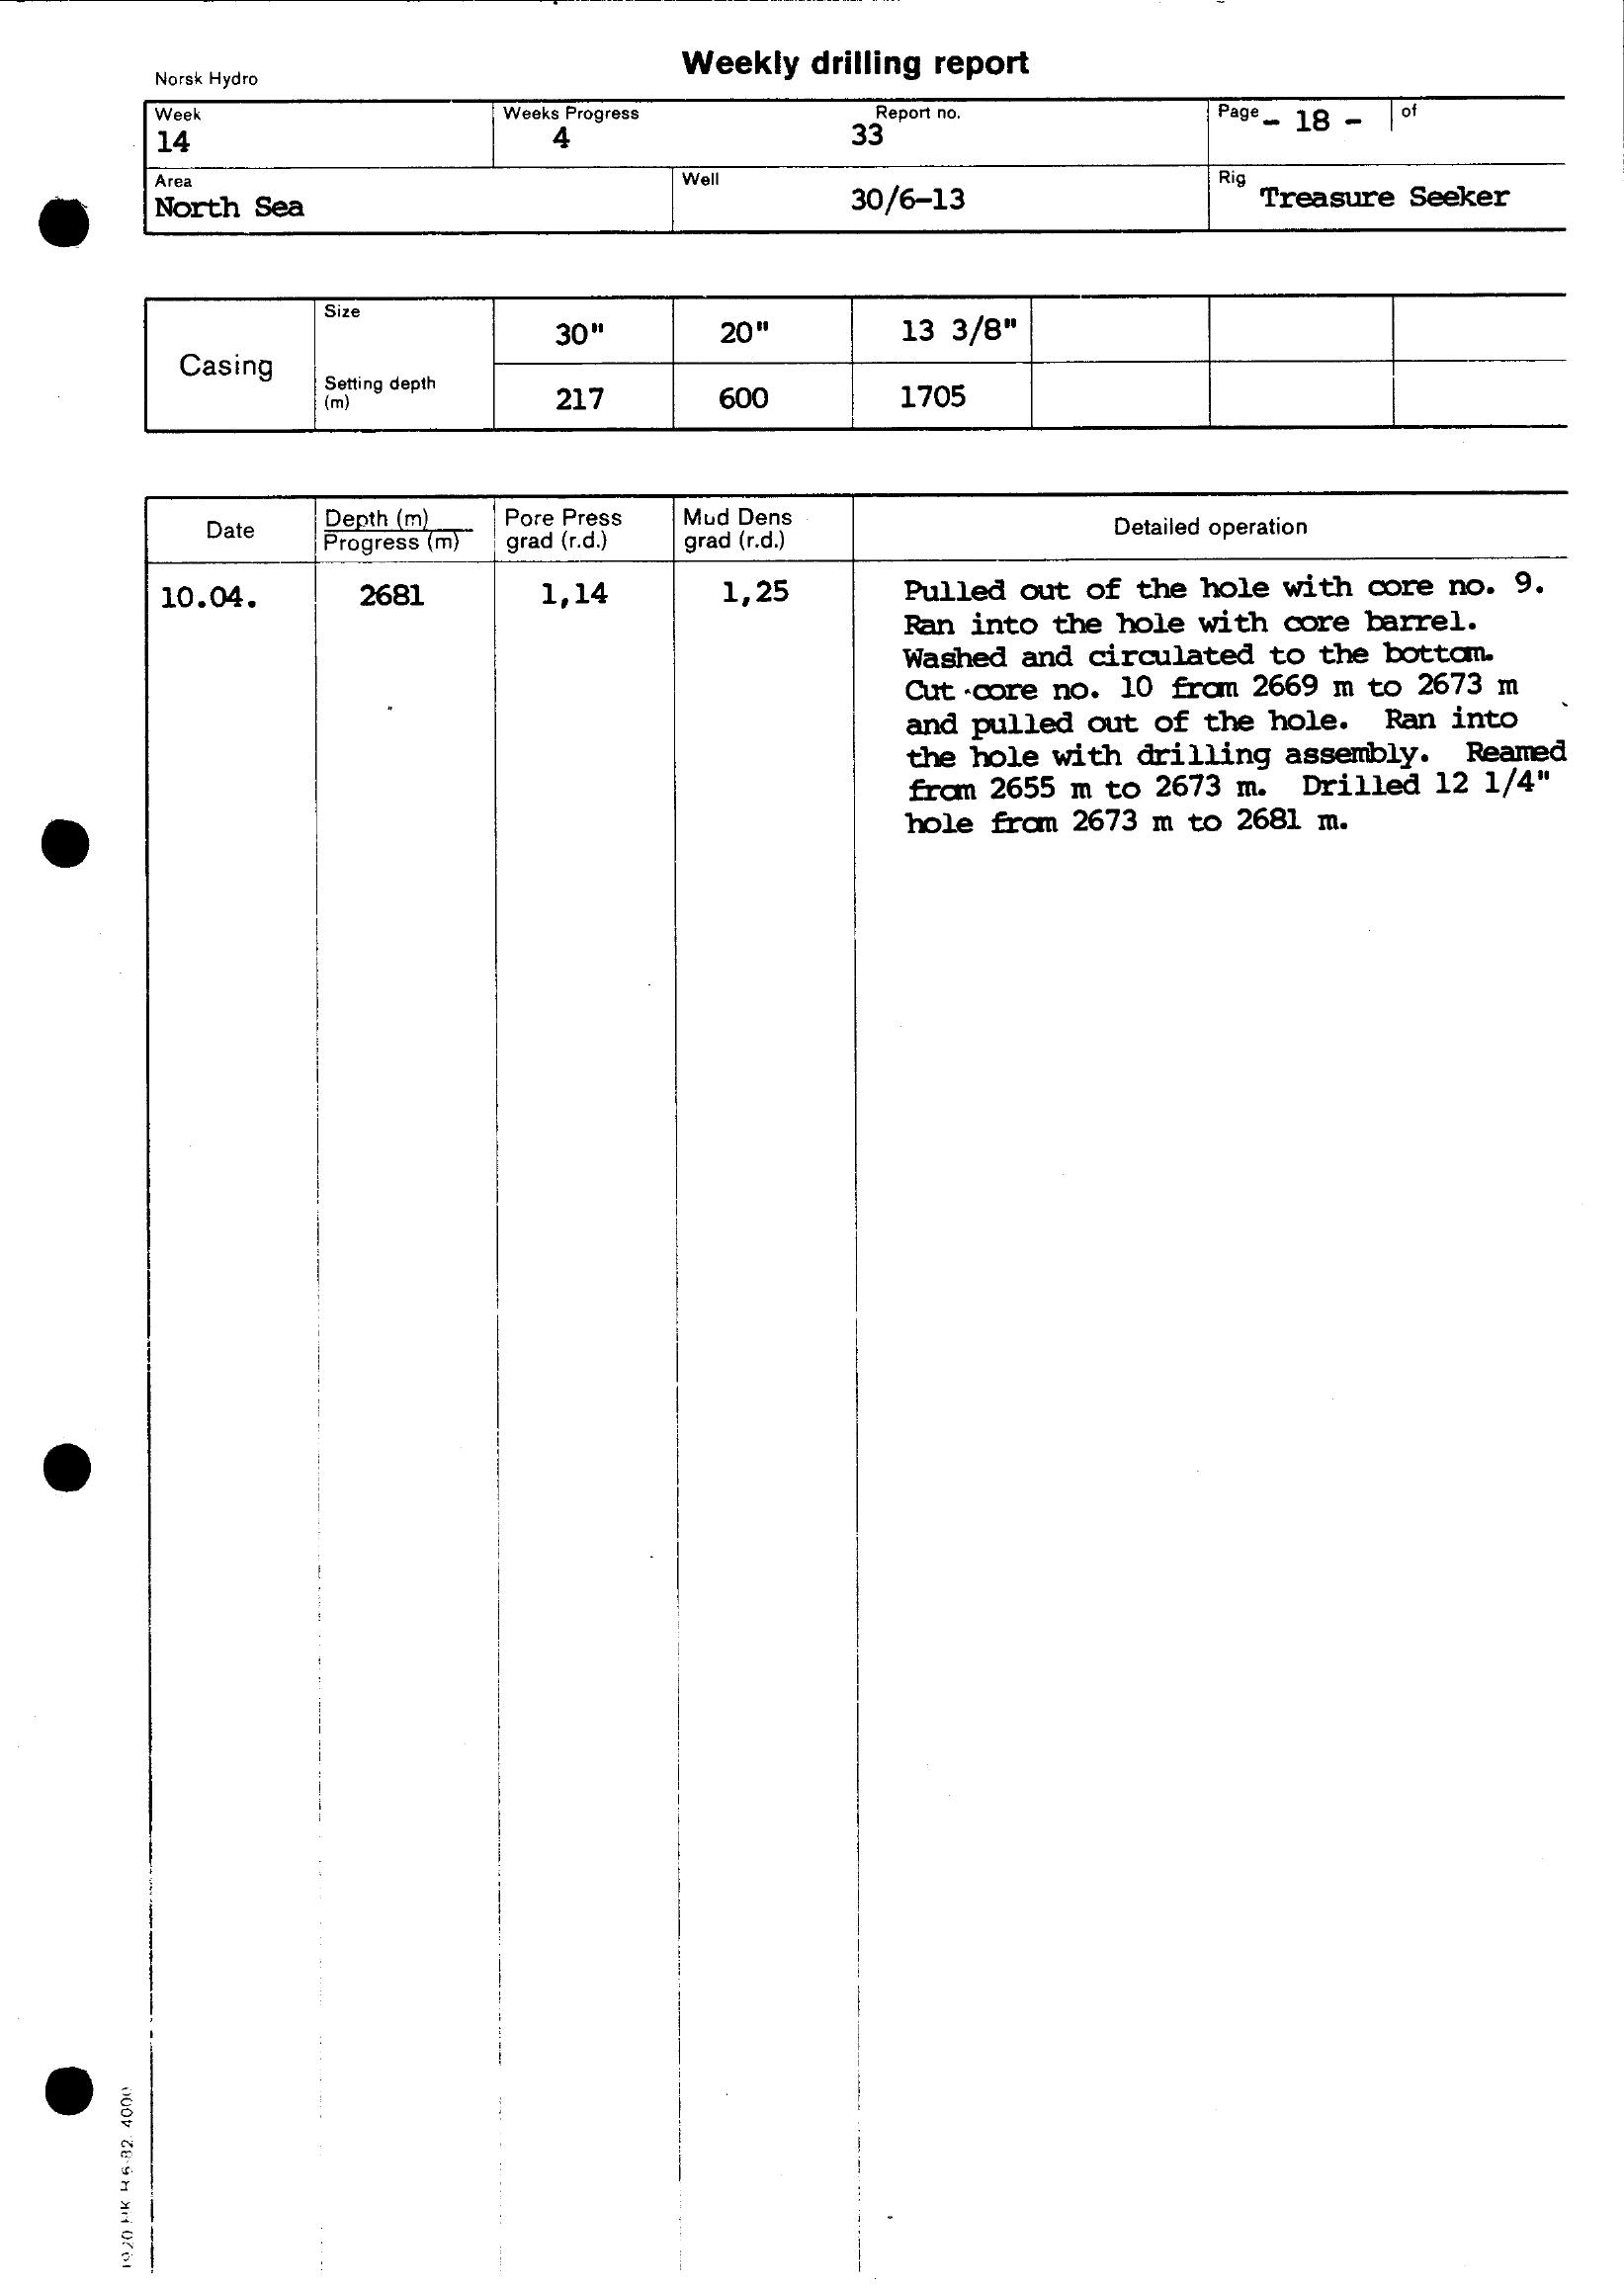graph: (134, 76, 1624, 896)
text: (666, 37, 1039, 91)
